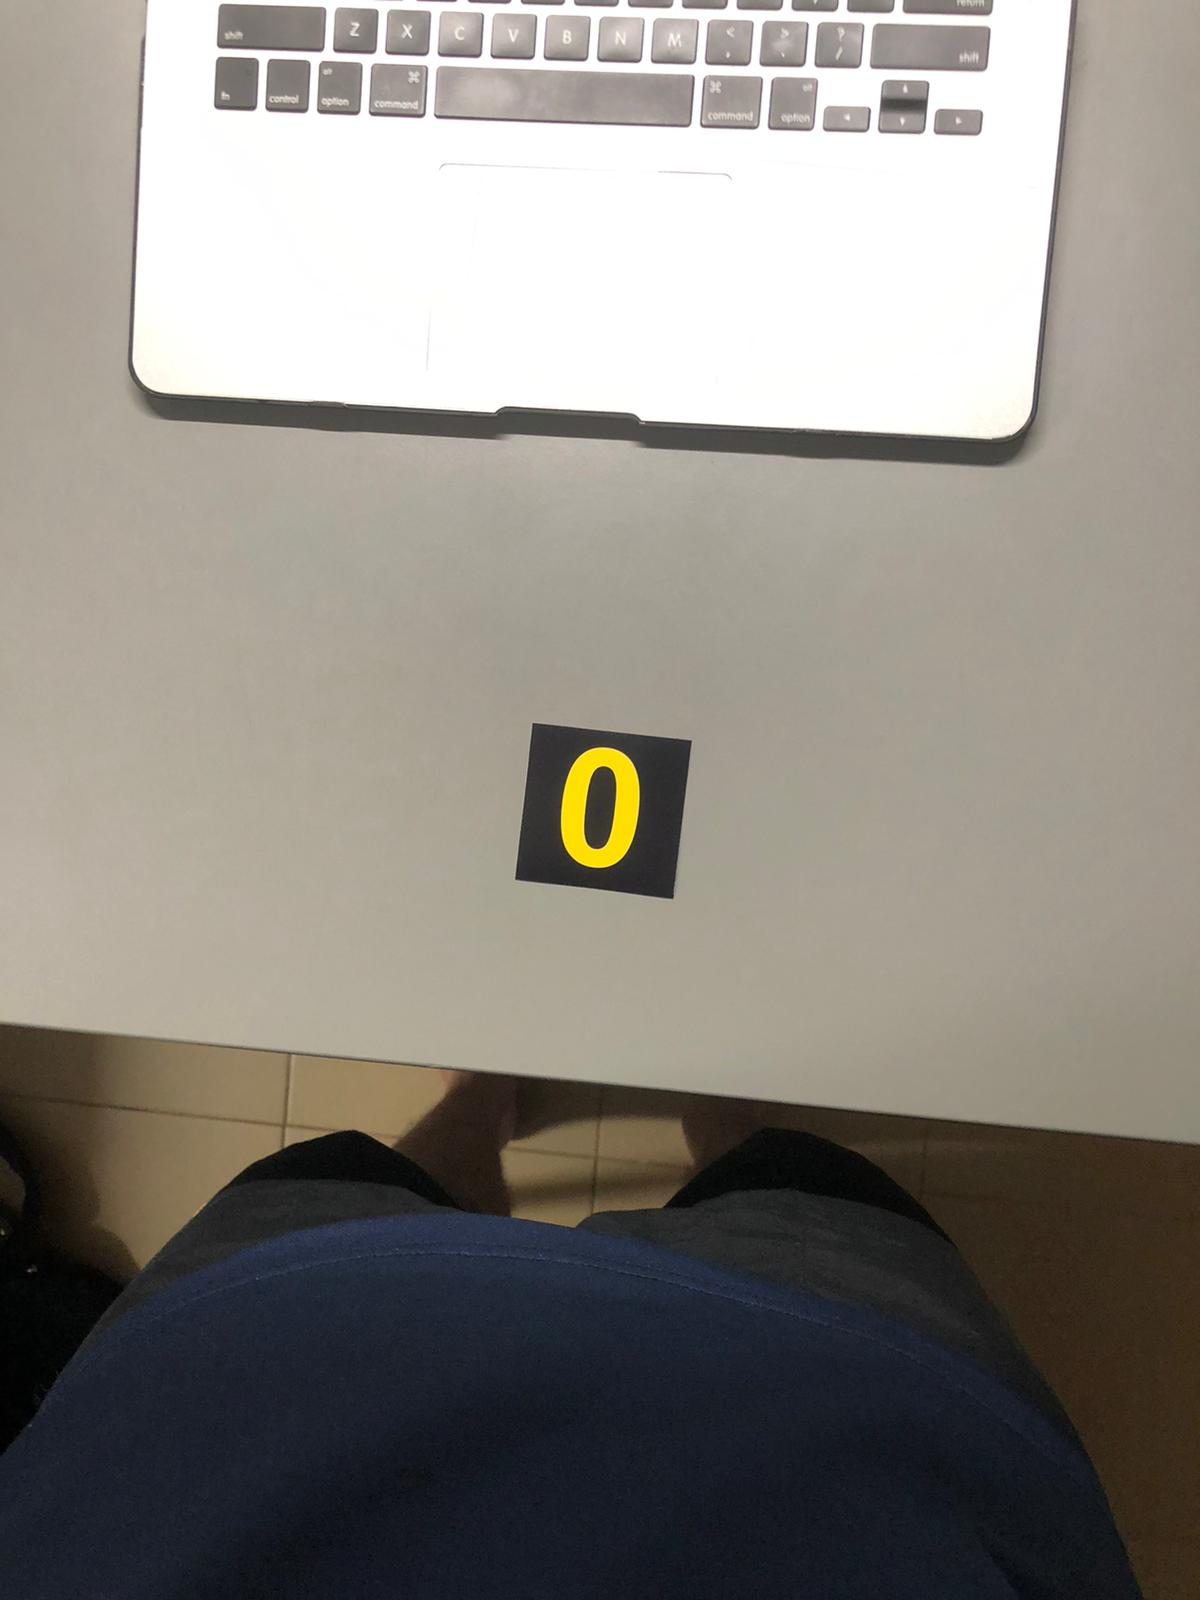Number 0: (524, 722, 679, 891)
